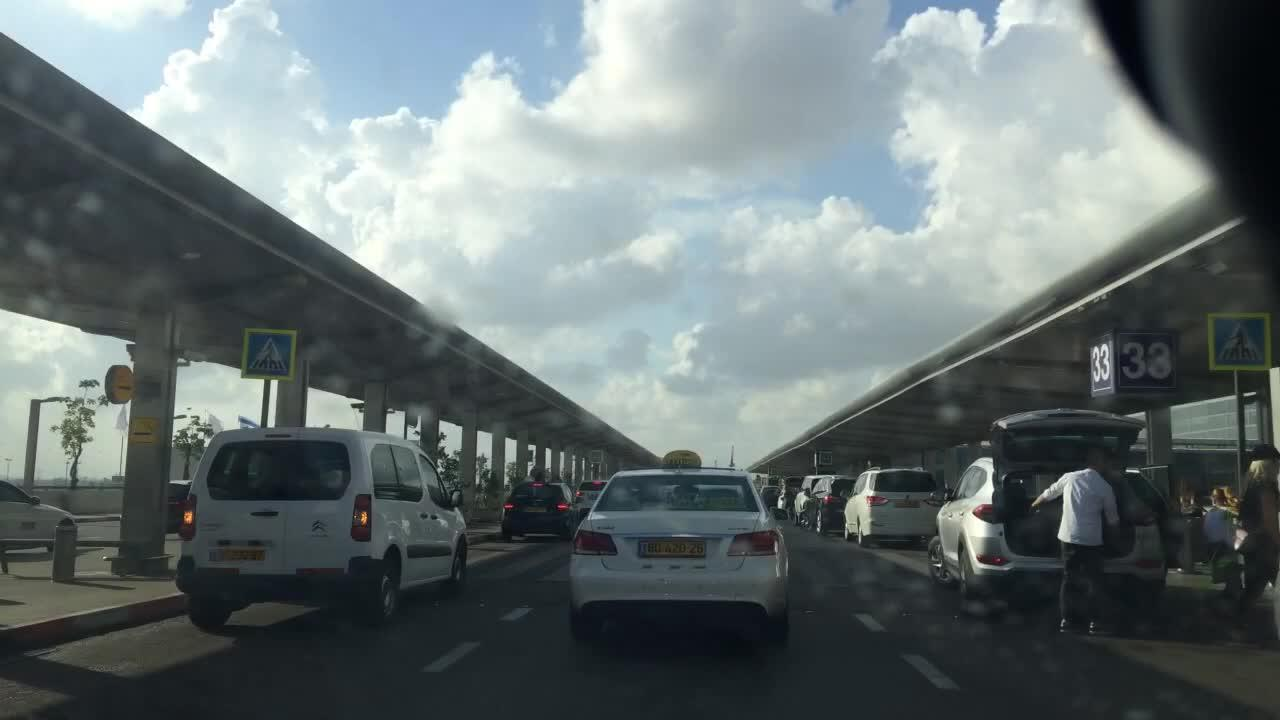Citroen: (306, 514, 330, 536)
